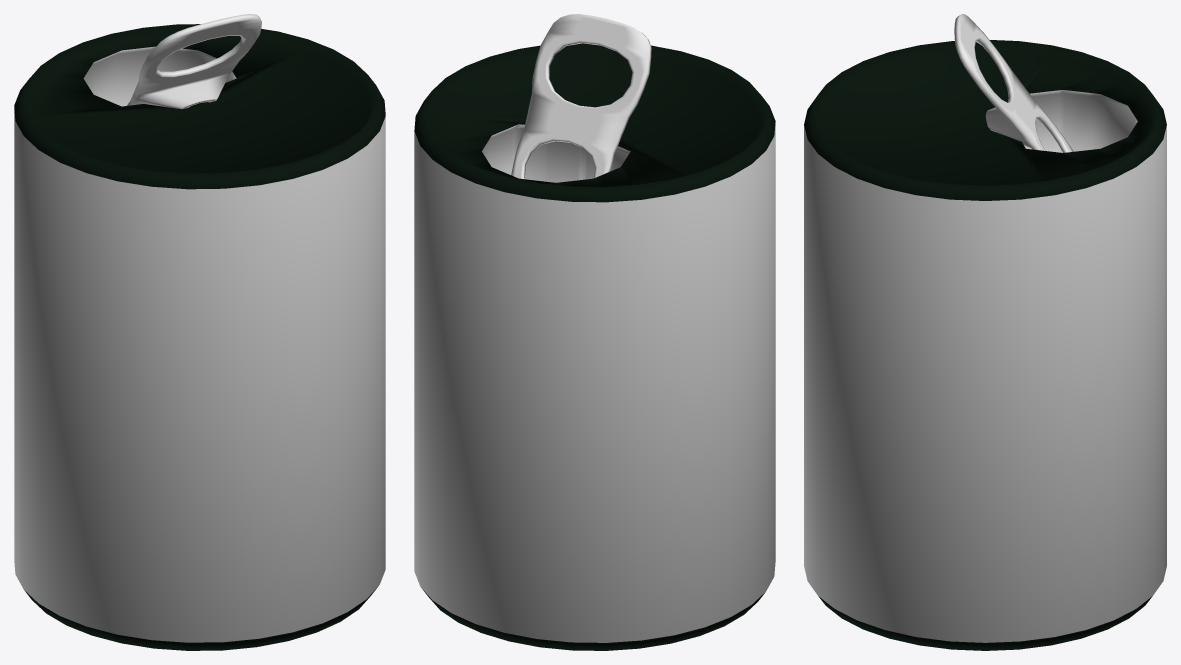
The model's file is Can.fbx.
The picture shows the model from 3 angles, left to right: view 1: azimuth 30°, elevation 25°; view 2: azimuth 150°, elevation 25°; view 3: azimuth 270°, elevation 25°; orthographic projection. The views are drawn at different scales.
Parts seen in each view (by area): view 1: Cylinder, Plane; view 2: Cylinder, Plane; view 3: Cylinder, Plane.
Part boxes in pixels (left/top/right/bottom): Cylinder: left=14, top=24, right=385, bottom=650; Plane: left=127, top=14, right=261, bottom=109; Cylinder: left=414, top=43, right=775, bottom=650; Plane: left=511, top=14, right=651, bottom=179; Cylinder: left=804, top=40, right=1166, bottom=650; Plane: left=954, top=14, right=1073, bottom=152.
Size of the model in its own units: 2 by 3.35 by 2.
3 materials, 1 textured.
